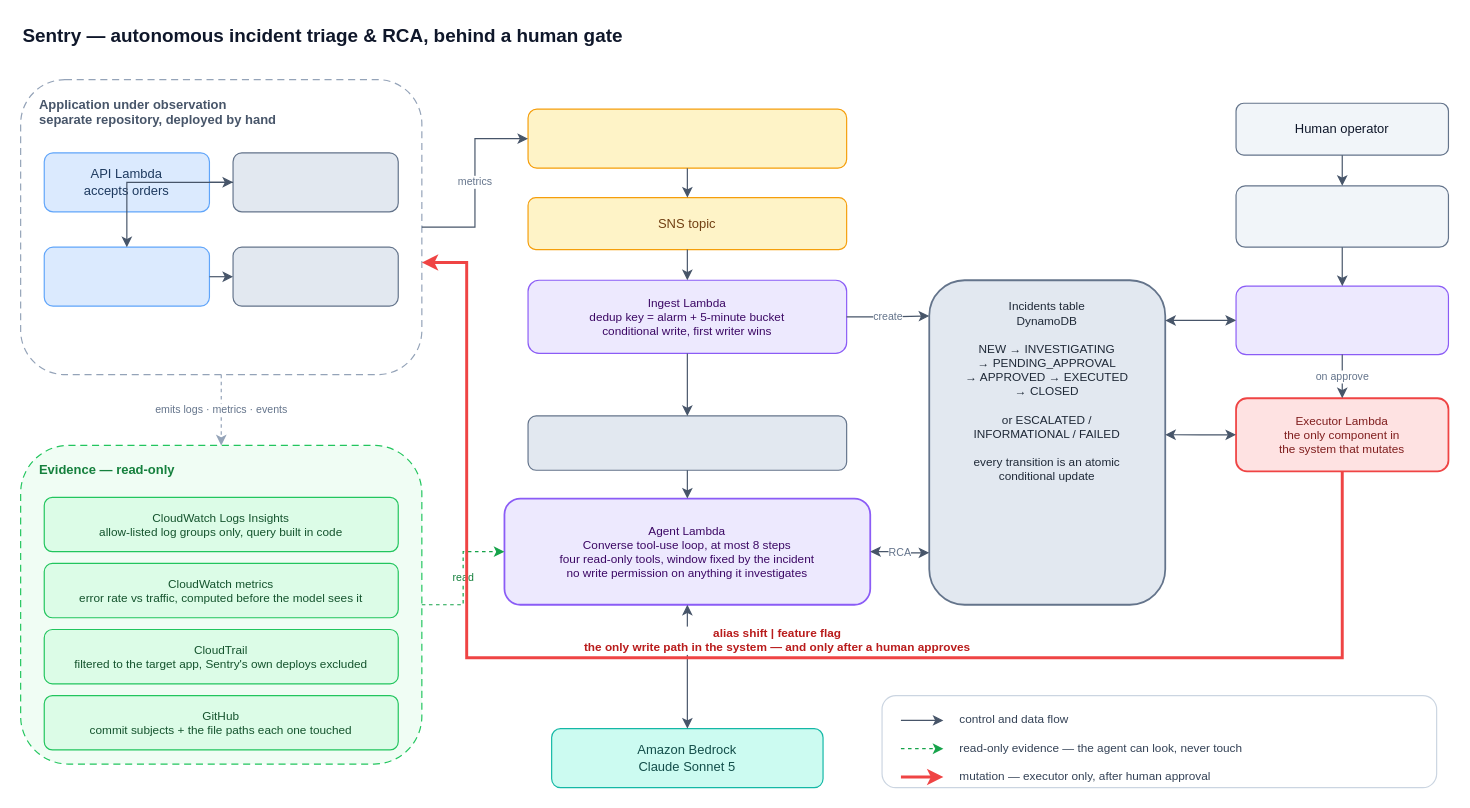
Some shapes in this 1470 by 808 pixel diagram are drawn without their labels. The shapes that lost their labels are listed below. From the top down, each one's centre as x and y in pixels, then its label:
(687,138): CloudWatch alarms publish on a state transition only
(315,182): Orders queue SQS + DLQ
(1341,216): Operator dashboard static page on S3
(126,276): Consumer Lambda processes messages
(315,276): App table DynamoDB
(1341,320): Approval Lambda list · inspect approve · reject
(687,442): Work queue SQS + DLQ
